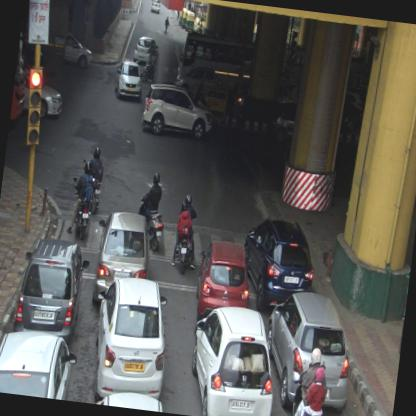bus: (175, 34, 256, 98)
car: (258, 286, 358, 414), (85, 272, 175, 408), (183, 300, 285, 415), (235, 217, 318, 319), (11, 236, 92, 339), (88, 210, 156, 310), (0, 325, 79, 401), (192, 239, 254, 320), (139, 81, 216, 142), (112, 60, 145, 102), (63, 34, 94, 71), (131, 35, 161, 65), (149, 0, 161, 13)
motorcycle: (287, 344, 334, 415), (132, 170, 170, 250), (168, 192, 204, 275), (64, 160, 98, 240), (77, 146, 105, 212), (139, 52, 161, 87)
